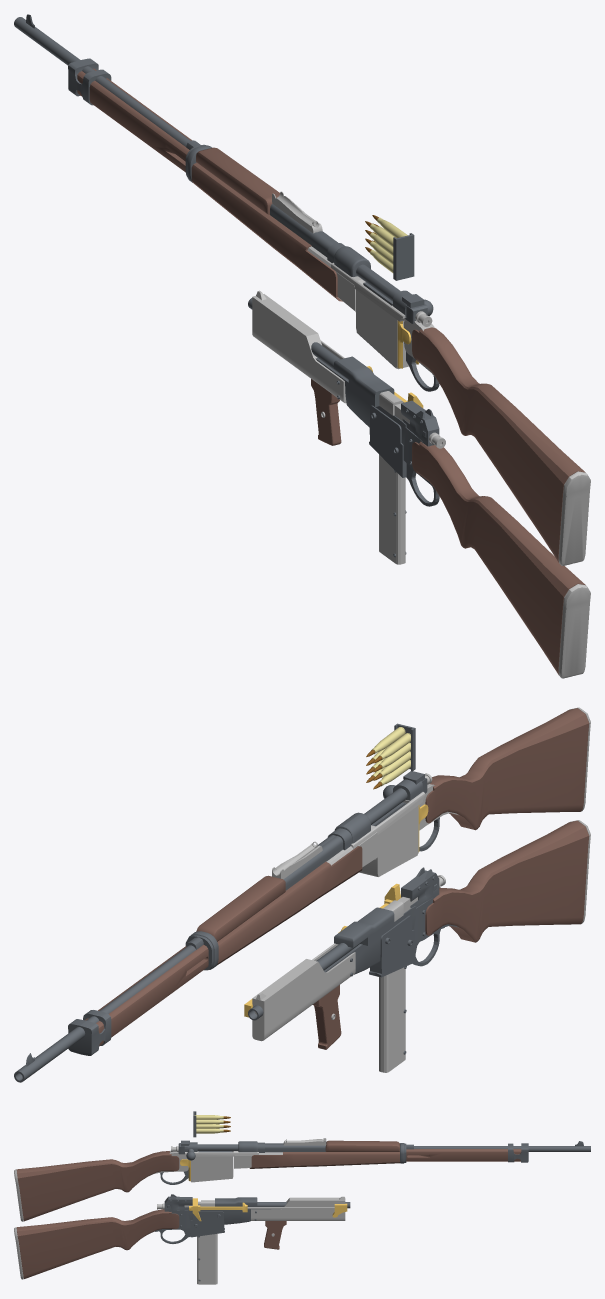
Rendered from Old Guns 1.fbx.
The picture shows the model from 3 angles, top to bottom: view 1: azimuth 30°, elevation 25°; view 2: azimuth 150°, elevation 25°; view 3: azimuth 270°, elevation 25°; orthographic projection. The views are drawn at different scales.
Visible parts, largest first — view 1: Rifle, SMG, Cube, Barrel, StripperClip; view 2: Rifle, SMG, Cube, Barrel, Bolt, Cylinder.004; view 3: Rifle, SMG, Cube, Barrel, Bolt, ChargingHandle, RodThing.
Boxes of the visible parts, x1=… form: Rifle: x1=68, y1=58, x2=590, y2=565; SMG: x1=252, y1=290, x2=590, y2=678; Cube: x1=379, y1=454, x2=406, y2=564; Barrel: x1=14, y1=14, x2=190, y2=146; StripperClip: x1=393, y1=233, x2=414, y2=280; Rifle: x1=68, y1=707, x2=590, y2=1055; SMG: x1=252, y1=820, x2=590, y2=1049; Cube: x1=379, y1=966, x2=406, y2=1072; Barrel: x1=14, y1=945, x2=195, y2=1082; Bolt: x1=364, y1=785, x2=407, y2=824; Cylinder.004: x1=248, y1=941, x2=362, y2=1020; Rifle: x1=14, y1=1138, x2=528, y2=1221; SMG: x1=14, y1=1194, x2=345, y2=1279; Cube: x1=197, y1=1233, x2=217, y2=1284; Barrel: x1=414, y1=1141, x2=590, y2=1151; Bolt: x1=186, y1=1144, x2=238, y2=1160; ChargingHandle: x1=189, y1=1198, x2=247, y2=1221; RodThing: x1=247, y1=1207, x2=334, y2=1209.
Size of the model in its own units: 0.3504 by 2.87 by 8.85.
